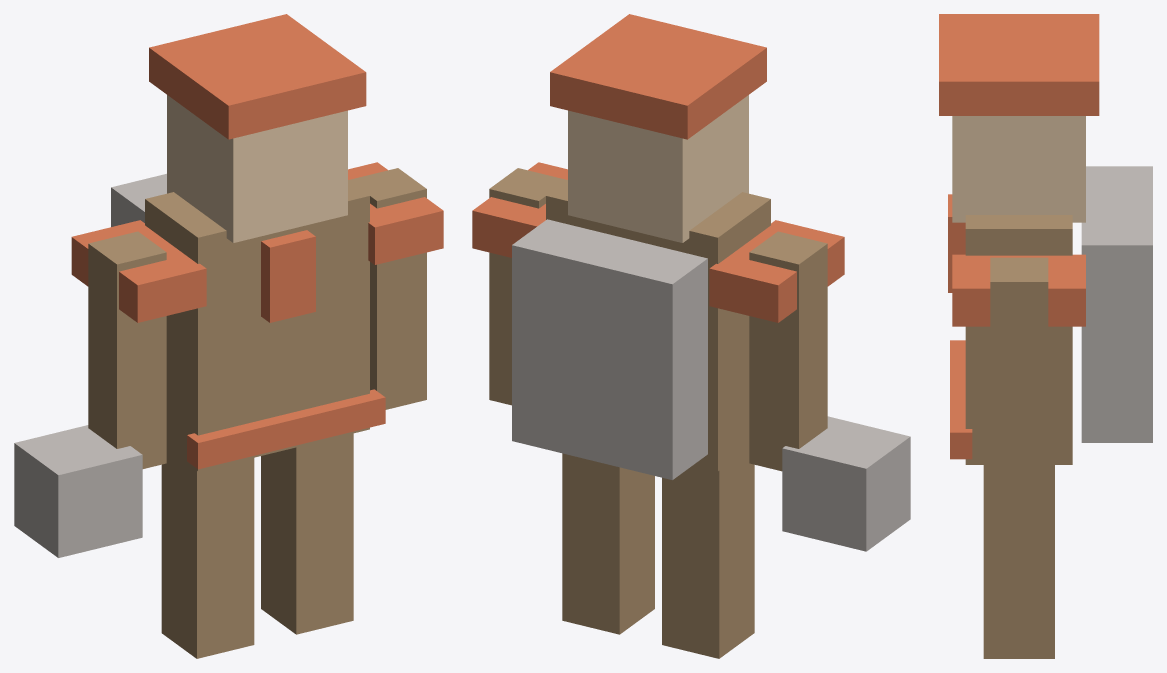
File: 08_maven_gravesong_guide_near.glb
3 renders of one model, left to right at view 1: azimuth 30°, elevation 25°; view 2: azimuth 150°, elevation 25°; view 3: azimuth 270°, elevation 25°, orthographic.
Visible parts, largest first — view 1: Maven Gravesong, Guide near; view 2: Maven Gravesong, Guide near; view 3: Maven Gravesong, Guide near.
Boxes of the visible parts, <box> form: Maven Gravesong, Guide near: <box>14,14,443,658</box>; Maven Gravesong, Guide near: <box>472,14,910,658</box>; Maven Gravesong, Guide near: <box>939,14,1152,658</box>.
Bounding box in the file's own units: 0.9743 × 1.39 × 0.47.
